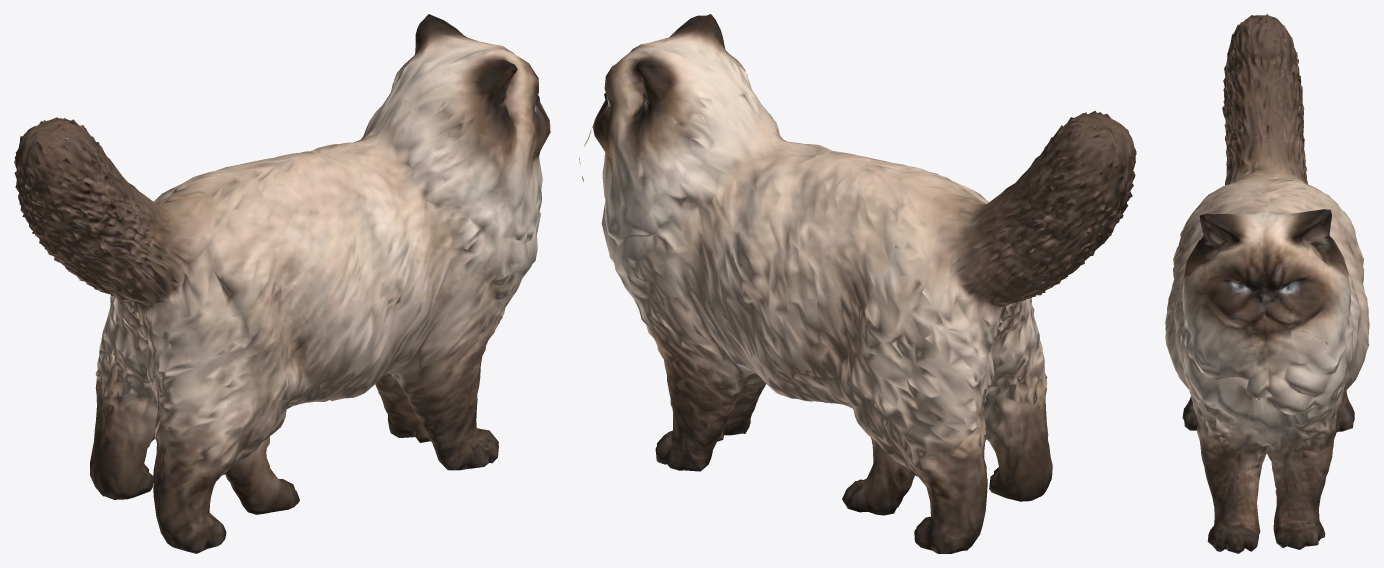
The model's file is MRJINX-lo.glb.
The picture shows the model from 3 angles, left to right: view 1: azimuth 30°, elevation 25°; view 2: azimuth 150°, elevation 25°; view 3: azimuth 270°, elevation 25°; orthographic projection. The views are drawn at different scales.
Parts seen in each view (by area): view 1: tripo_node_fb637774-3107-4e98-a186-f912c8b497ff; view 2: tripo_node_fb637774-3107-4e98-a186-f912c8b497ff; view 3: tripo_node_fb637774-3107-4e98-a186-f912c8b497ff.
Boxes of the visible parts, <box> form: tripo_node_fb637774-3107-4e98-a186-f912c8b497ff: <box>14,14,550,553</box>; tripo_node_fb637774-3107-4e98-a186-f912c8b497ff: <box>579,14,1136,553</box>; tripo_node_fb637774-3107-4e98-a186-f912c8b497ff: <box>1165,14,1369,553</box>.
Bounding box in the file's own units: 1.29 × 0.9984 × 0.5065.
Materials: 1 (1 with a texture image).
